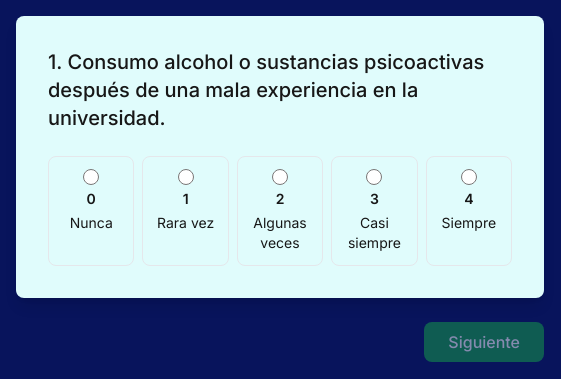
Test case: TestForm › al volver atrás conserva la respuesta anterior
What coordinates should you click on to do the following:
click the radio button labelled "2 Algunas veces"
I would click on:
 (280, 177)
Its box is left=272, top=169, right=288, bottom=185.
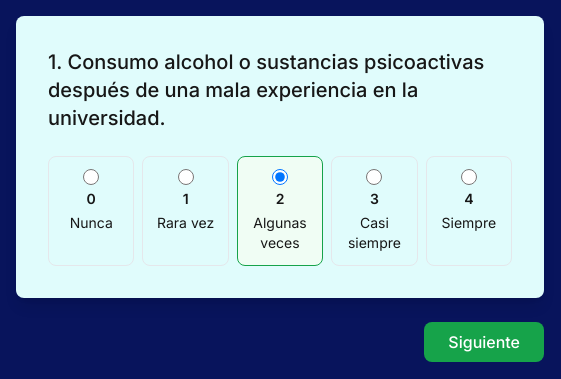
What coordinates should you click on to do the following:
click the button "Siguiente"
I would click on:
 (484, 342)
Its box is left=424, top=322, right=544, bottom=362.
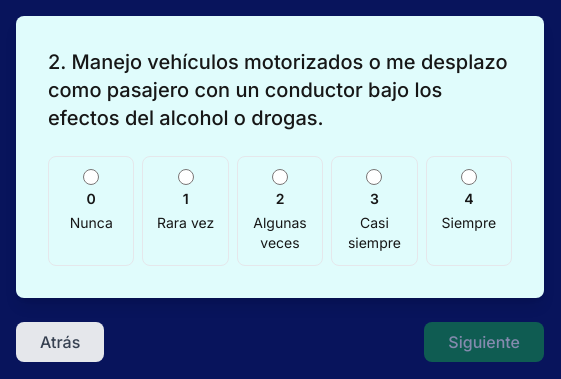
Expected: the heading shows "2.", left=48, top=48, right=512, bottom=132
What coordinates should you click on to do the following:
click the button "Atrás"
I would click on:
 (60, 342)
Its box is left=16, top=322, right=104, bottom=362.
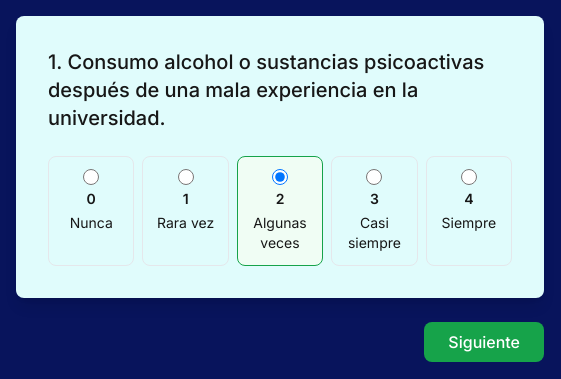
Expected: the radio button labelled "2 Algunas veces" is checked, left=272, top=169, right=288, bottom=185
Expected: the heading shows "1.", left=48, top=48, right=512, bottom=132
